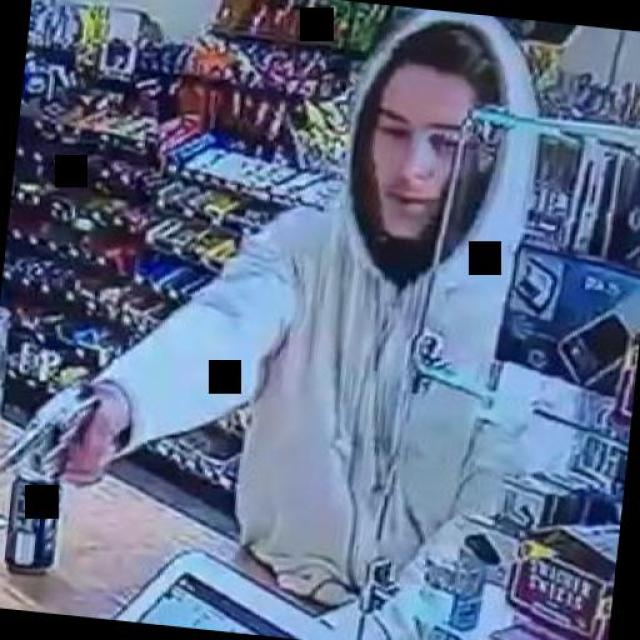gun: (0, 371, 121, 491)
